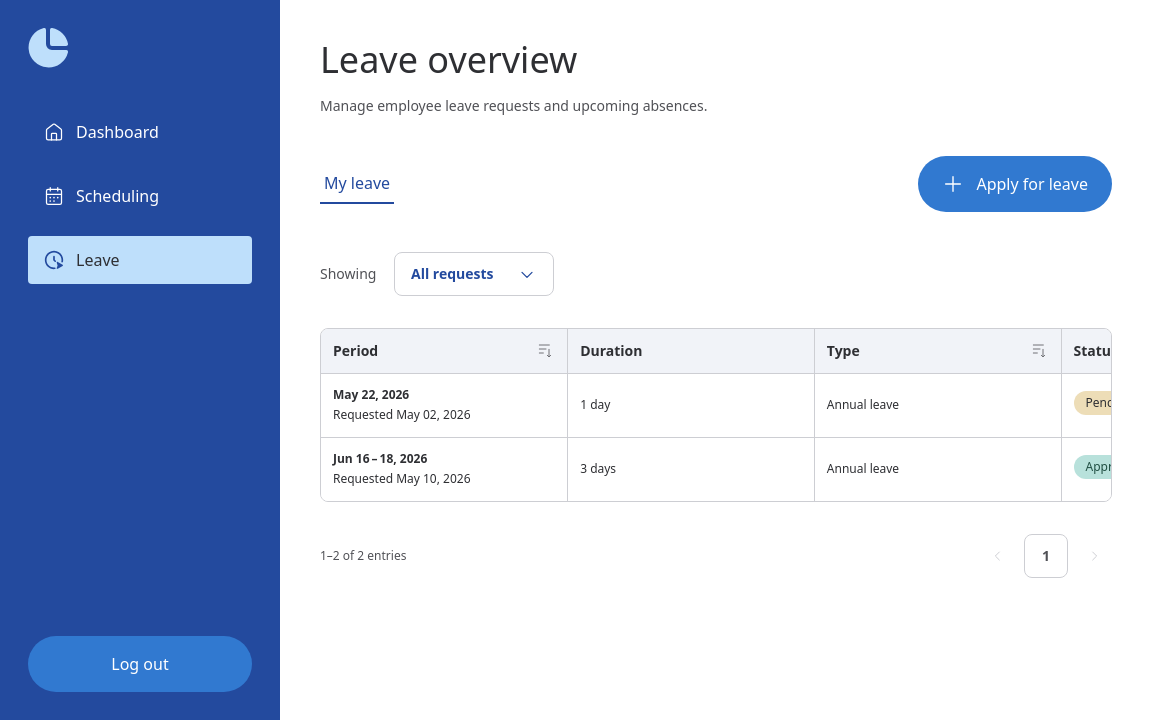
Test case: Leave › applies for the member's own leave through the me route
Expected: the table named "Requests" is shown, [321,329,1112,501]
Step 1. Click the button "Apply for leave" → [1015, 184], box [918,156,1112,212]
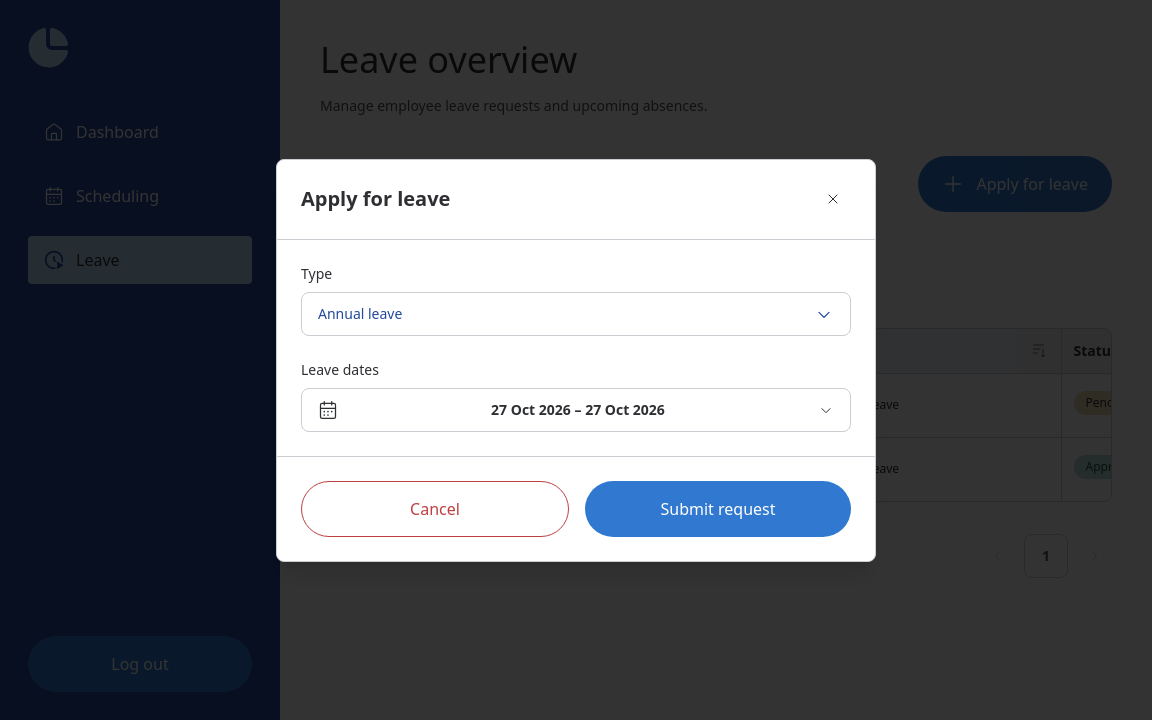
Step 2. Click the button named "Type" → [360, 313], box [301,292,851,336]
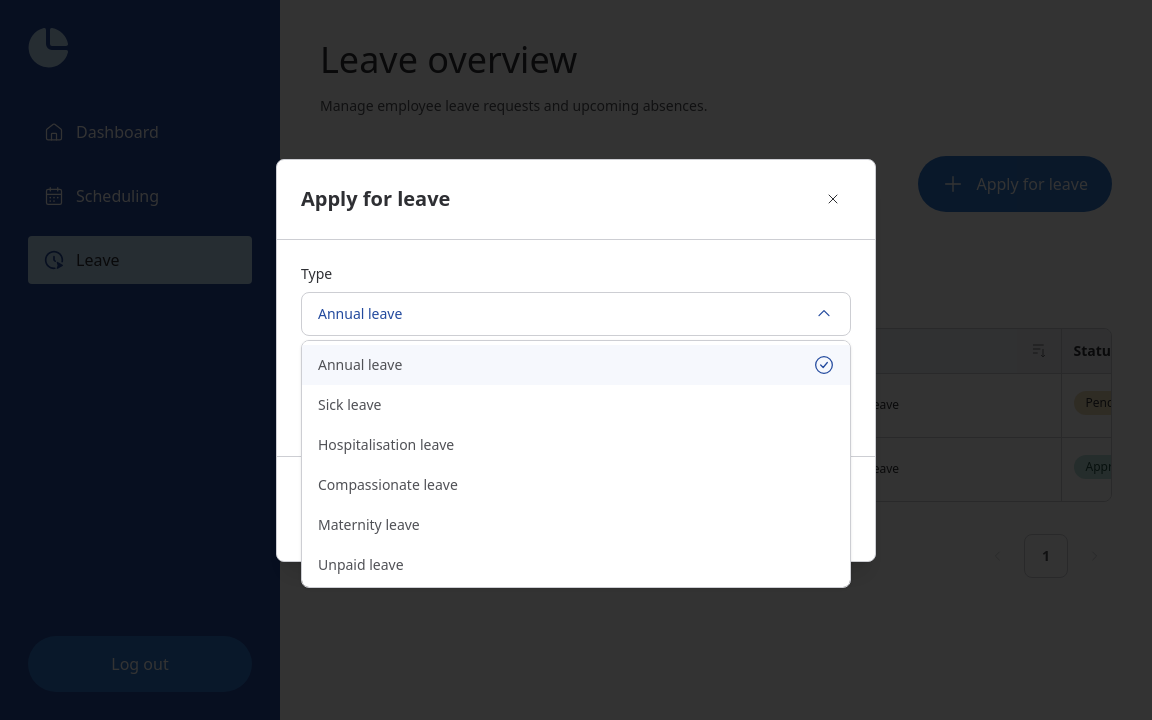
Step 3. Click the option "Sick leave" → [350, 404], box [318,395,382,414]
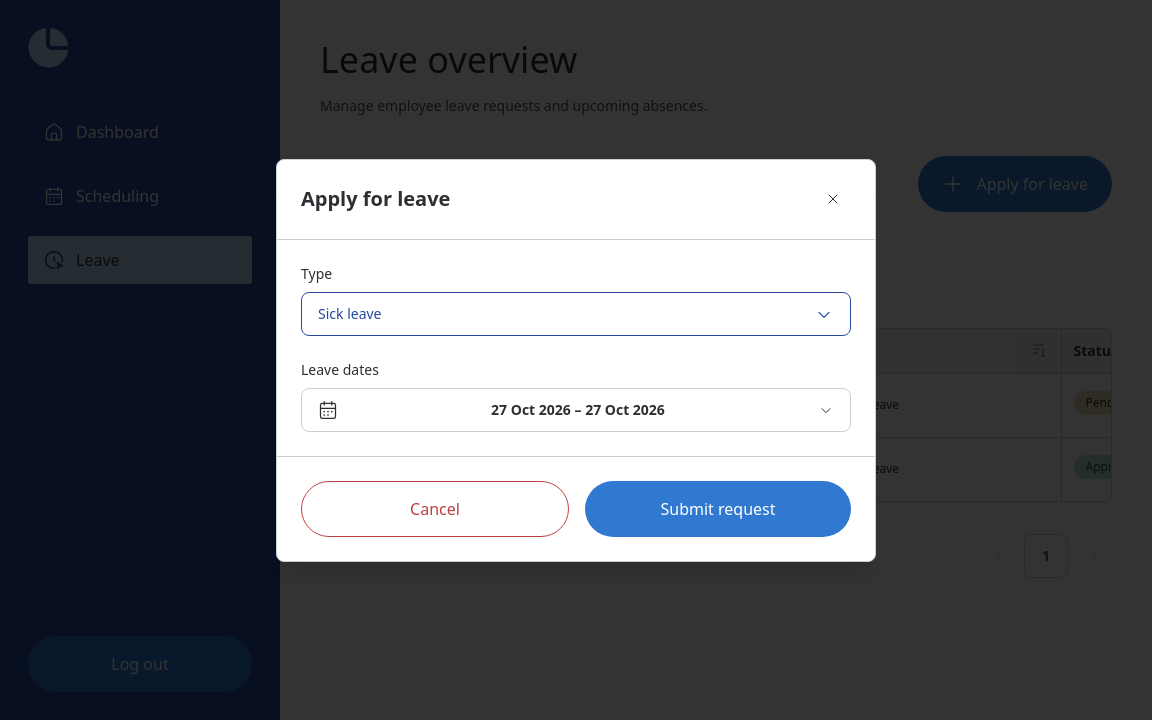
Step 4. Click the button "Submit request" → [718, 508], box [585,480,851,536]
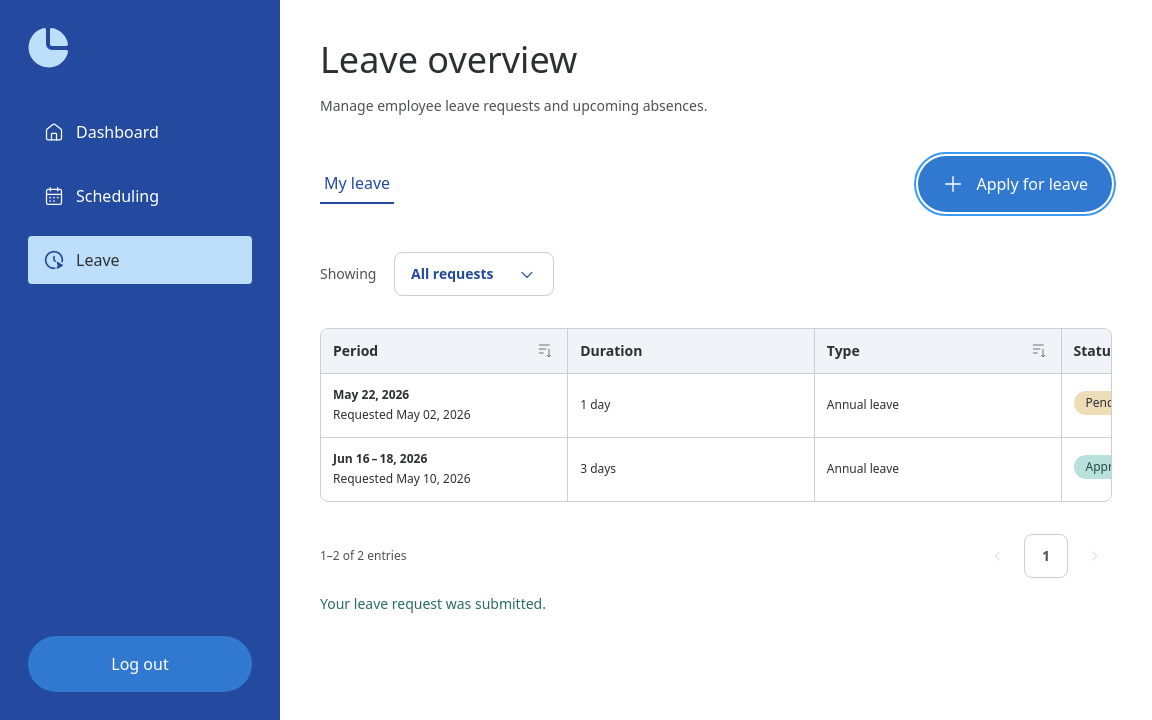
Expected: the text "Your leave request was submitted." is shown, [320,594,546,613]
